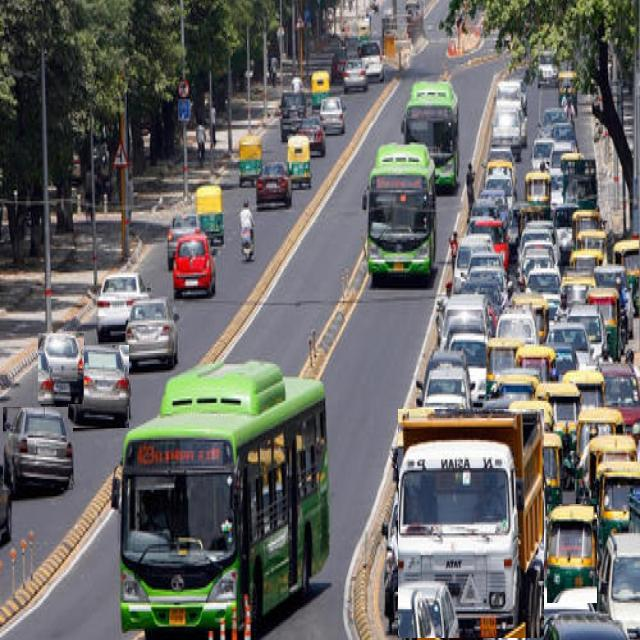autorickshaw: (548, 505, 597, 603)
bus: (119, 361, 329, 634), (362, 144, 436, 285)
car: (4, 408, 73, 490), (69, 346, 129, 428), (39, 333, 84, 404)
truck: (399, 409, 544, 638)
